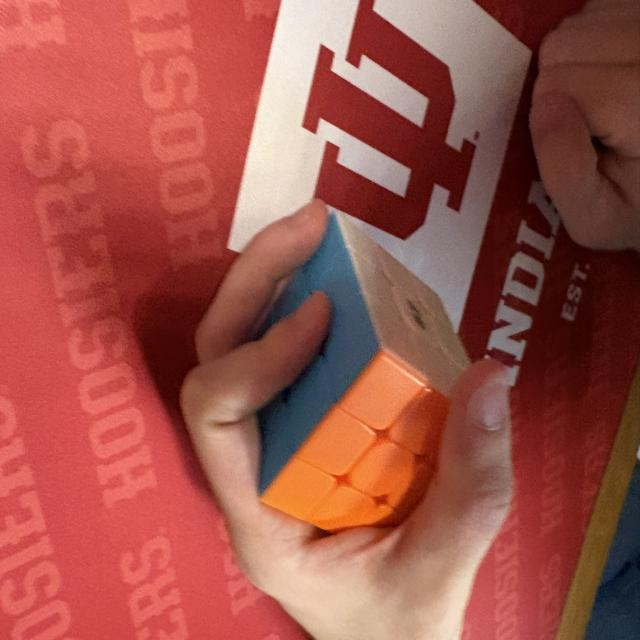Rubiks Cube: (256, 216, 471, 536)
